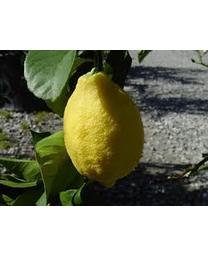lemon: (62, 72, 145, 184)
